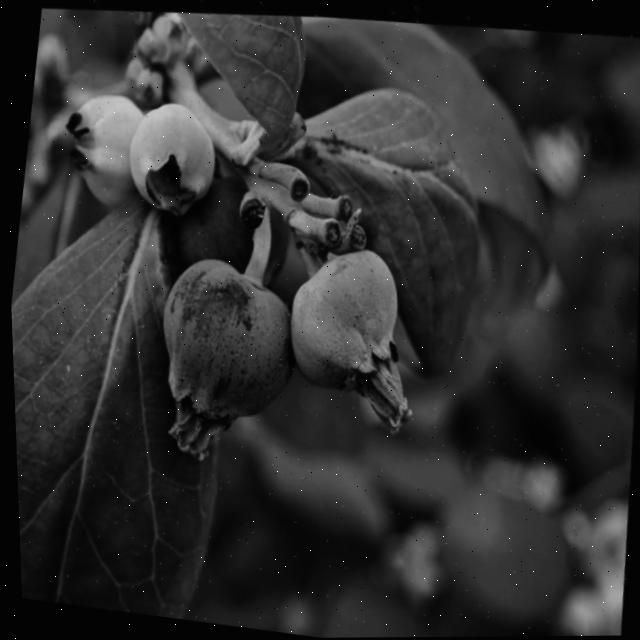RipeBlueBerry: (137, 238, 309, 442)
Semi-RipeBlueBerry: (271, 235, 418, 415)
UnripeBlueBerry: (120, 87, 232, 217)
